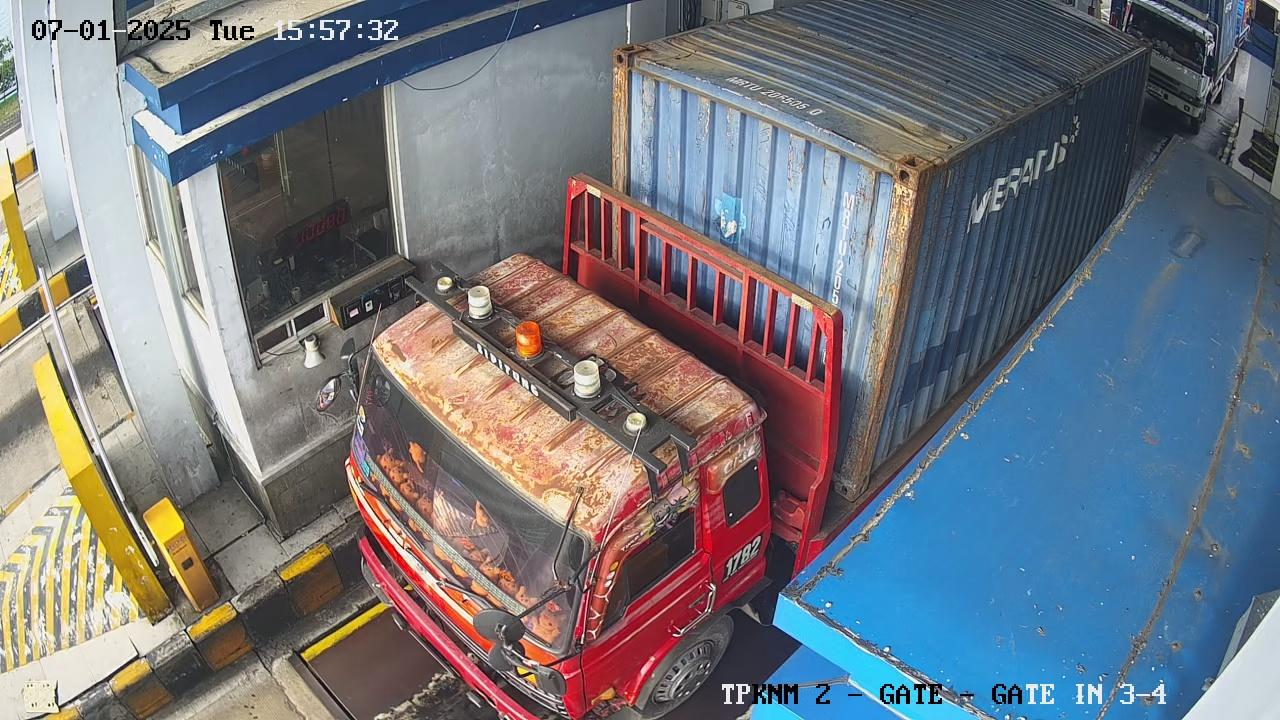Container_ID: (712, 75, 824, 124)
Container_ID_Vertikal: (823, 164, 871, 307)
truck_id: (718, 527, 765, 584)
